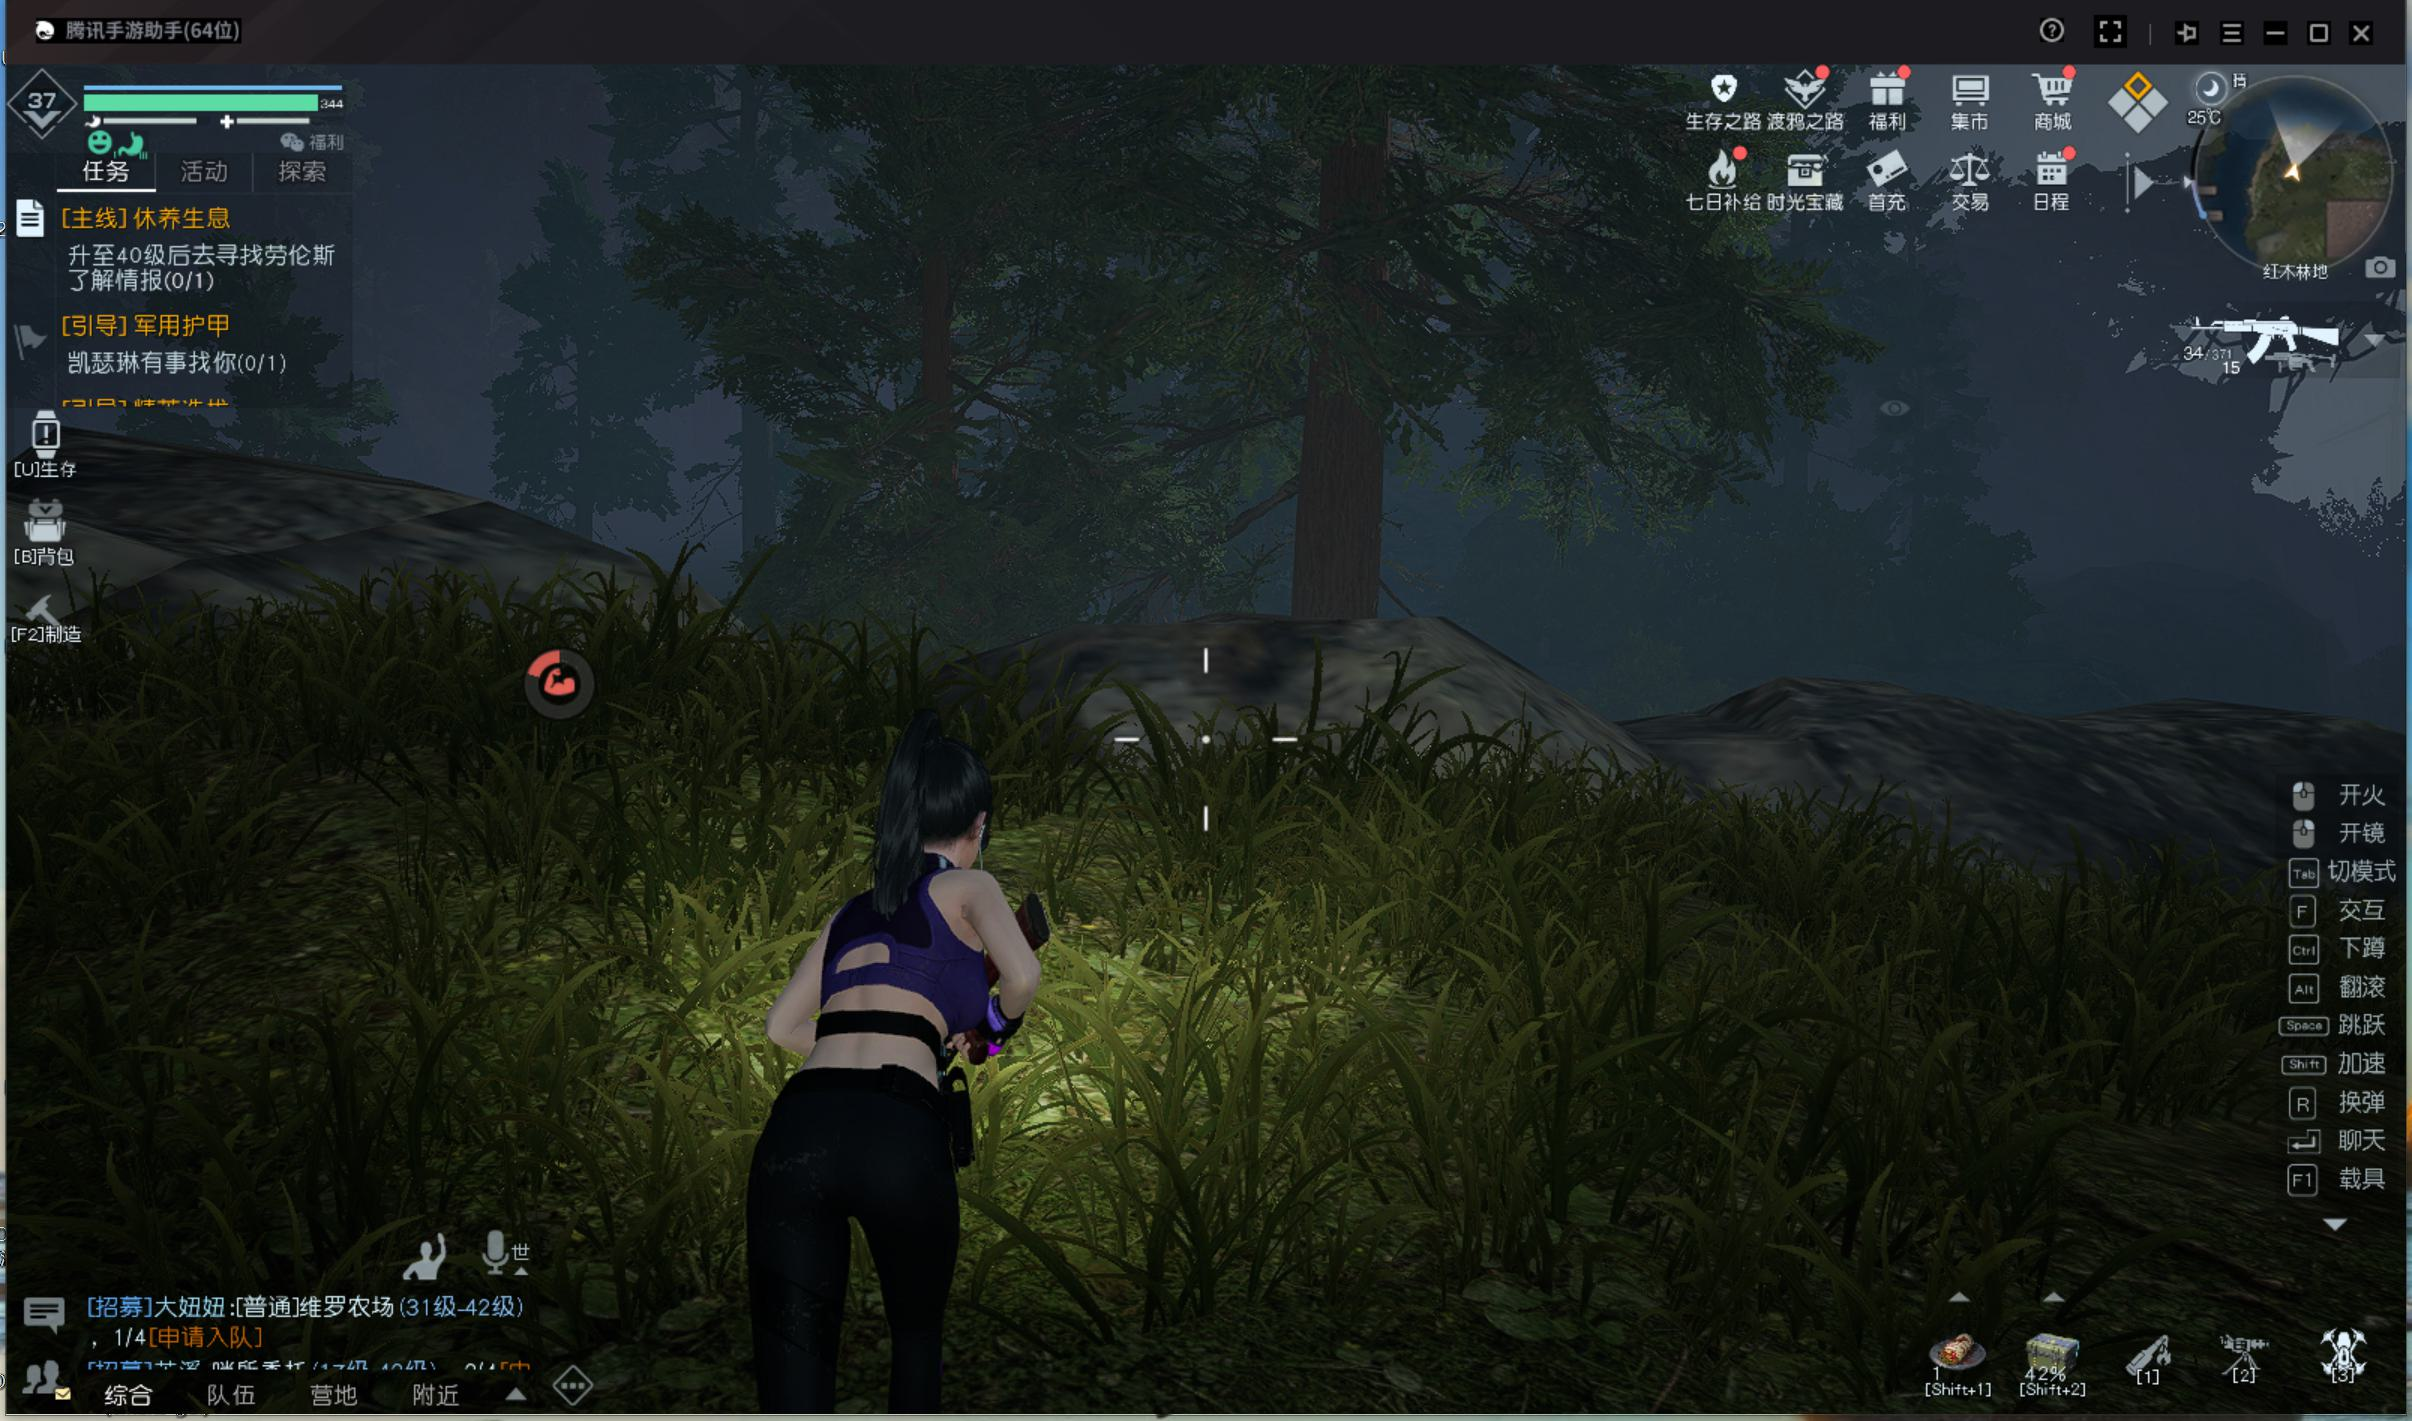tree: (1291, 264, 1395, 667), (907, 348, 968, 667)
